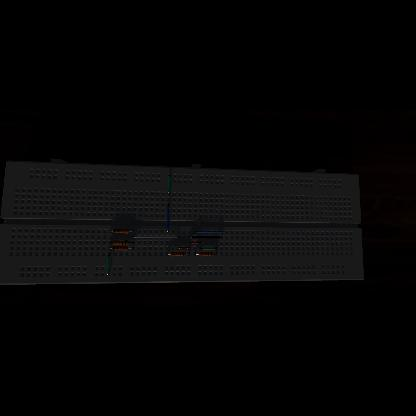breadboard: (0, 159, 364, 285)
resistor: (112, 246, 128, 252), (113, 229, 129, 233), (113, 241, 129, 245), (198, 253, 214, 257), (170, 253, 186, 257)
wire: (166, 204, 170, 232), (132, 237, 180, 239), (107, 253, 111, 275), (190, 237, 223, 239), (195, 231, 223, 233), (200, 247, 216, 250), (168, 175, 170, 195), (189, 242, 201, 244), (178, 247, 190, 249), (129, 230, 135, 232), (129, 247, 135, 249), (130, 242, 134, 244), (108, 247, 112, 249), (110, 230, 112, 232), (110, 242, 112, 244), (186, 254, 190, 255), (196, 253, 198, 255), (214, 254, 217, 255), (168, 254, 170, 255)
